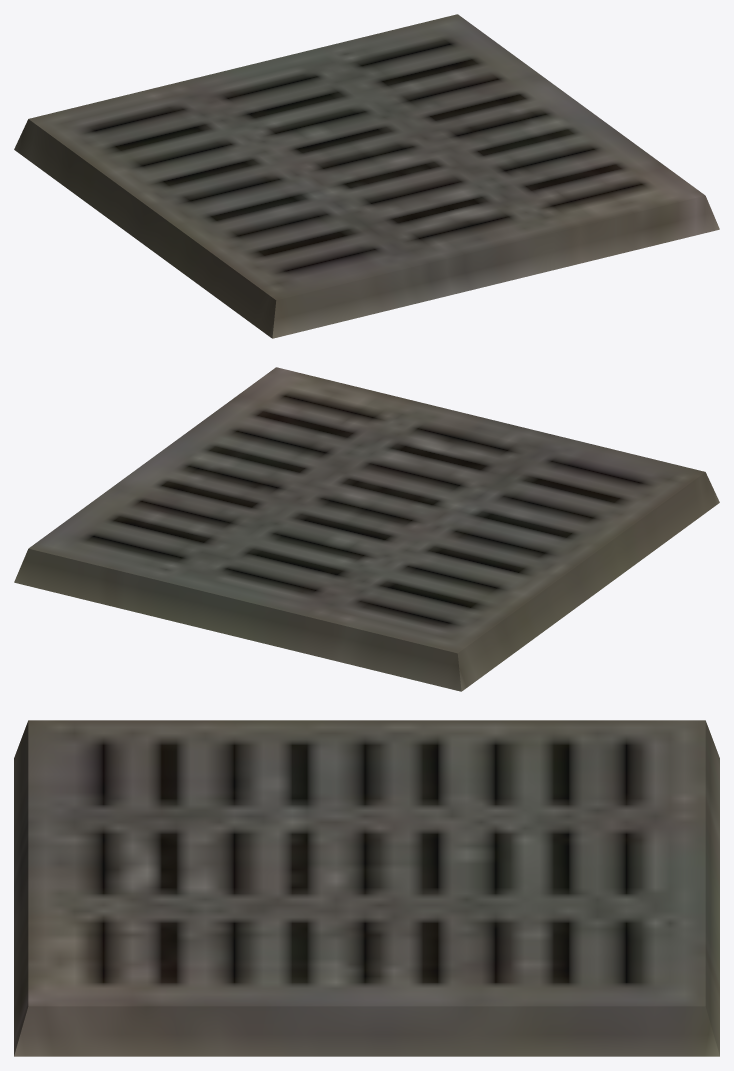
Rendered from Prop_Drain.glb.
3 views of the same model, one above another, from view 1: azimuth 30°, elevation 25°; view 2: azimuth 150°, elevation 25°; view 3: azimuth 270°, elevation 25° (orthographic). The views are drawn at different scales.
Parts seen in each view (by area): view 1: Prop_Drain; view 2: Prop_Drain; view 3: Prop_Drain.
Part boxes in pixels (box(x1,y1,x2,y2)): Prop_Drain: box(14, 14, 719, 338); Prop_Drain: box(14, 367, 719, 691); Prop_Drain: box(14, 720, 719, 1056).
Bounding box in the file's own units: 0.5852 × 0.0404 × 0.5852.
Materials: 1 (1 with a texture image).
